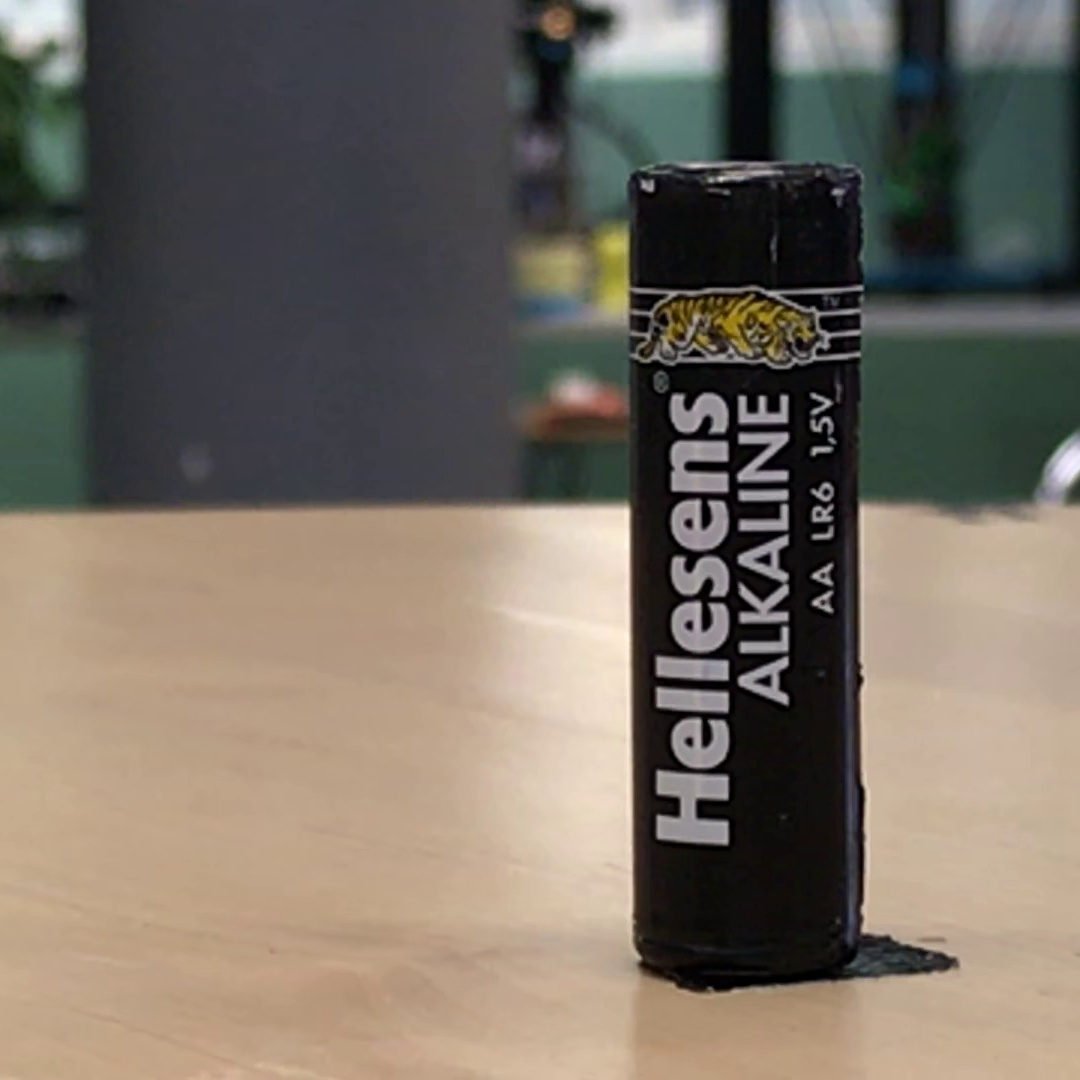keyword: (728, 301, 798, 714)
